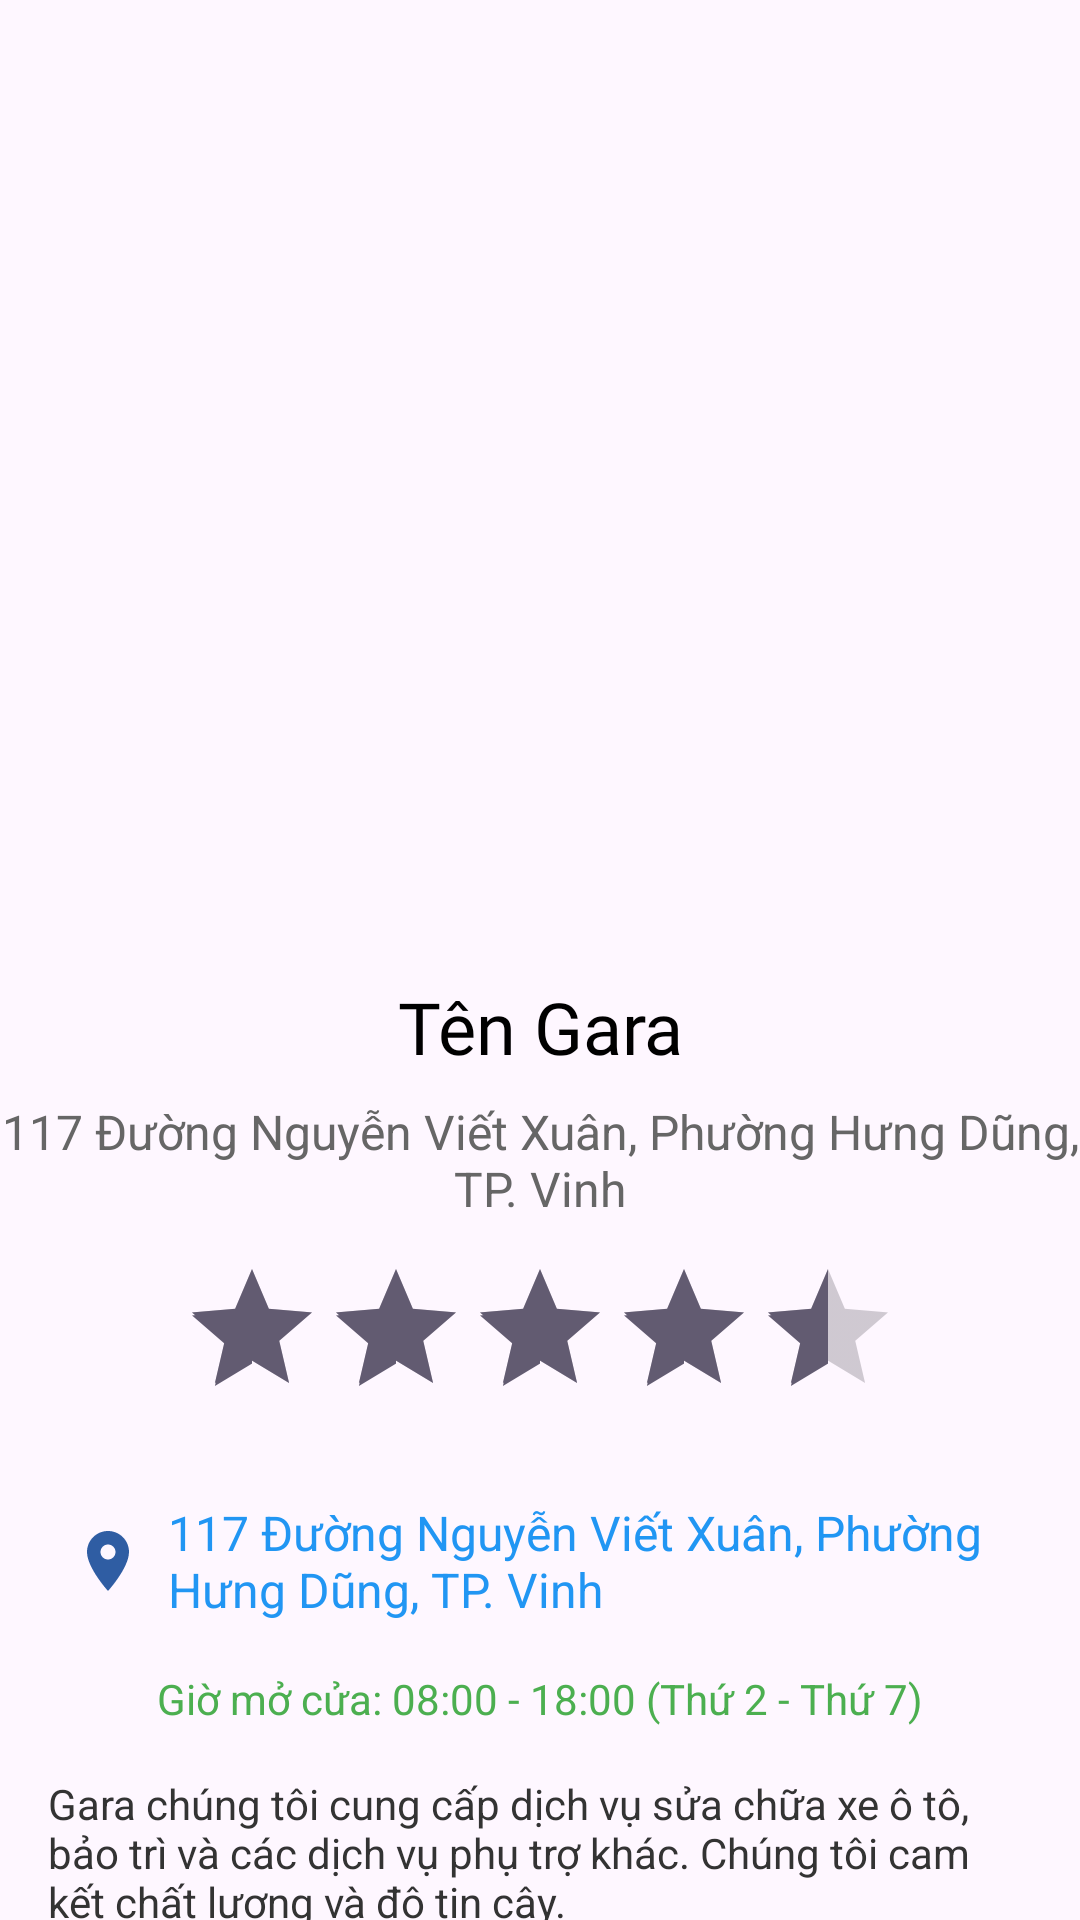

Screen size 1080x1920. Icon name, then its box in pixels as rect(x1, y1, x2, y2):
Icon map: rect(87, 1531, 129, 1591)
